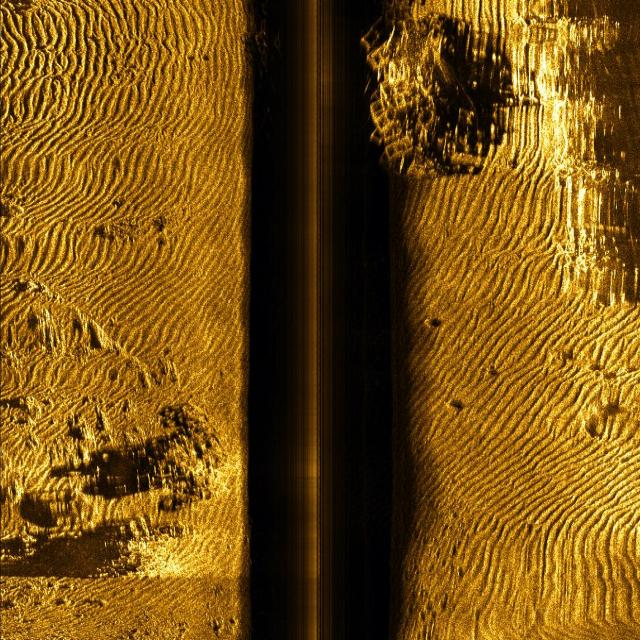artificial reef: (362, 22, 502, 208)
